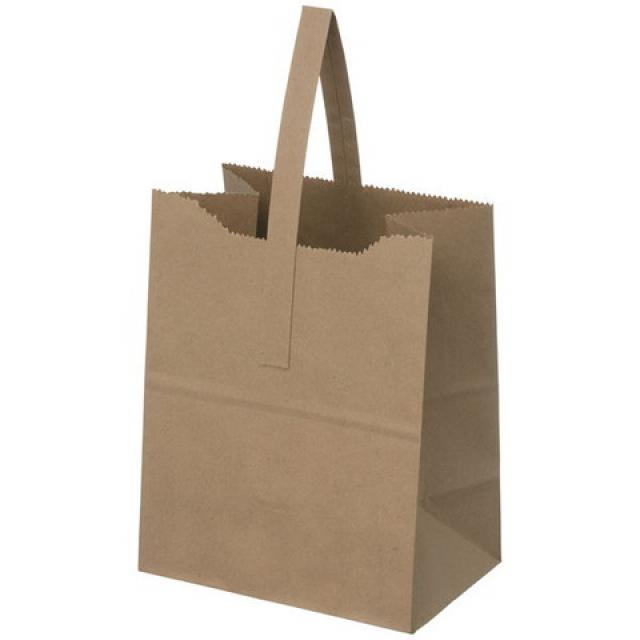paper bag: (136, 5, 504, 638)
